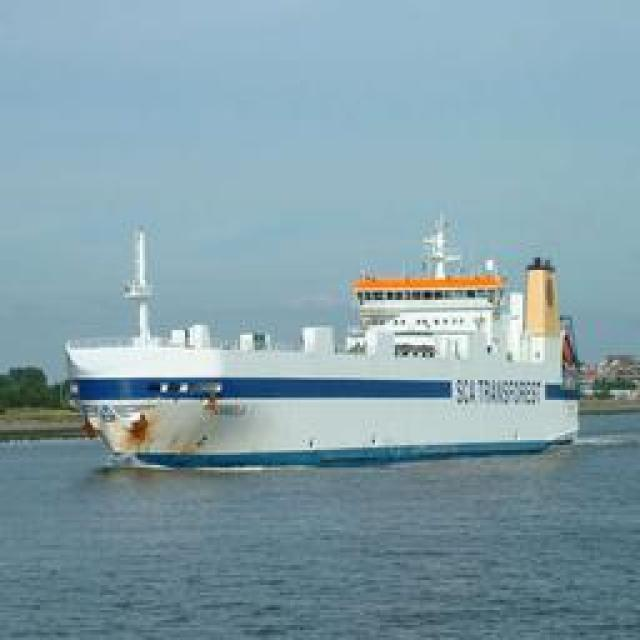ship2: (64, 209, 581, 474)
